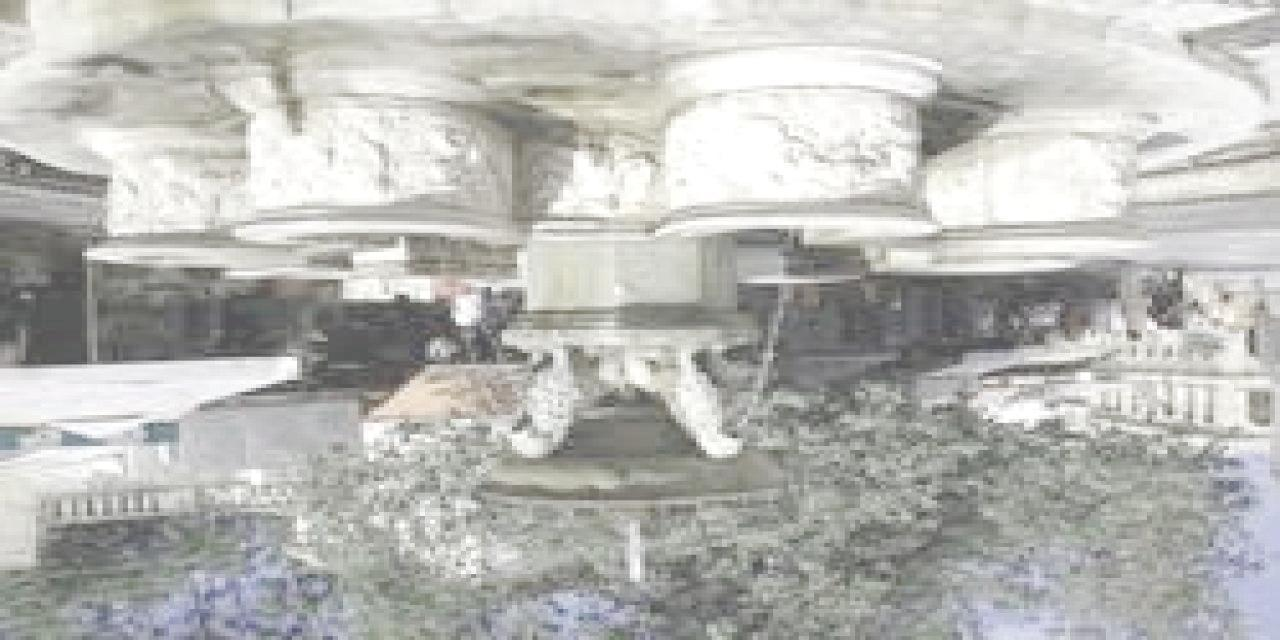Liontaria: (86, 70, 1178, 522)
